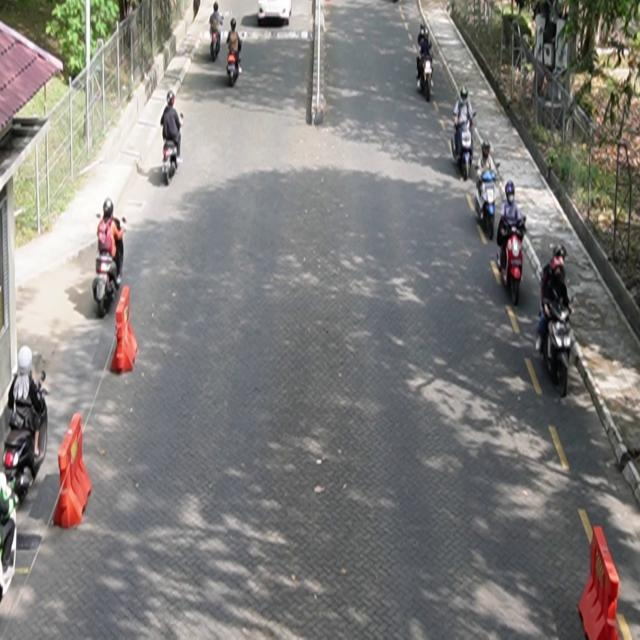car: (258, 1, 293, 26)
